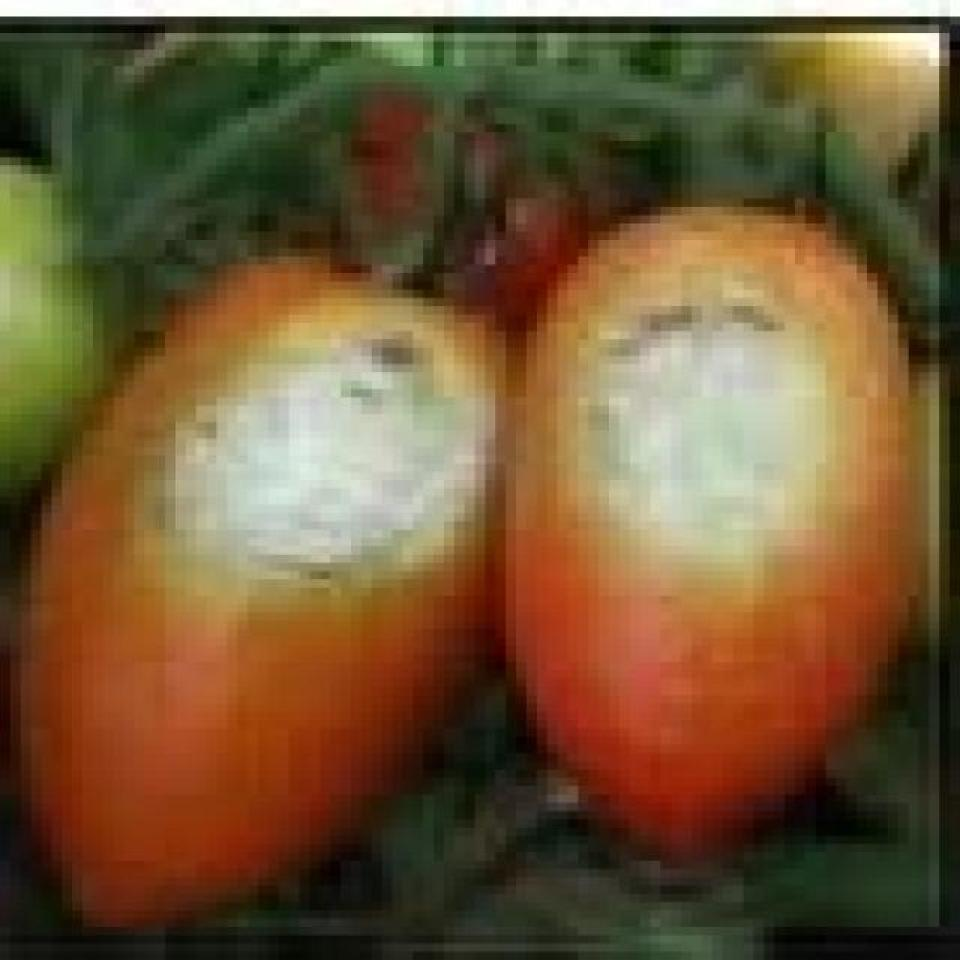Sunscald: (552, 265, 873, 587), (154, 302, 476, 600)
